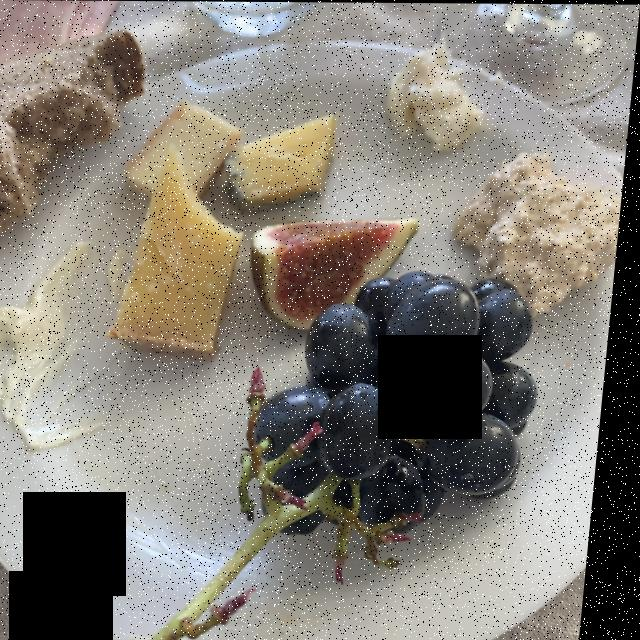bread-wholemeal: (0, 44, 150, 240)
figs: (255, 217, 429, 346)
grapes: (256, 271, 537, 552)
hard-cheese: (131, 174, 239, 372)
hummus: (463, 158, 621, 304)
semi-hard-cheese: (123, 109, 351, 199)
